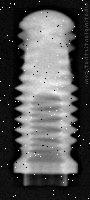Neodent: (13, 8, 79, 187)
